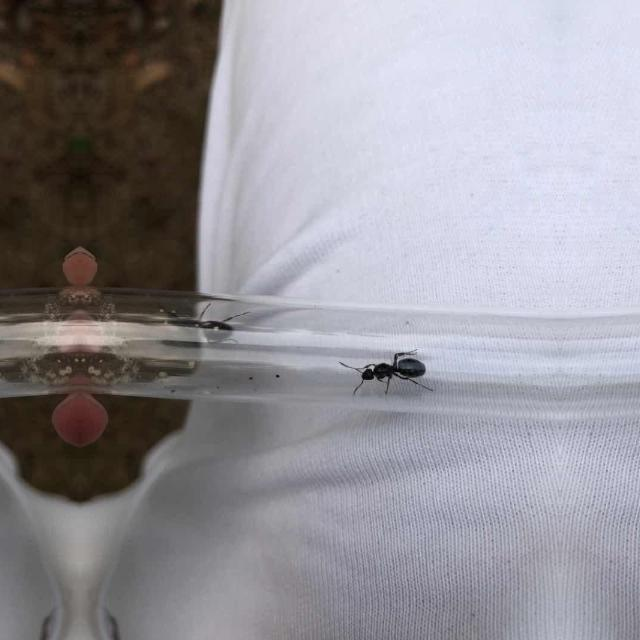Formica: (349, 344, 438, 396), (162, 298, 242, 354)
